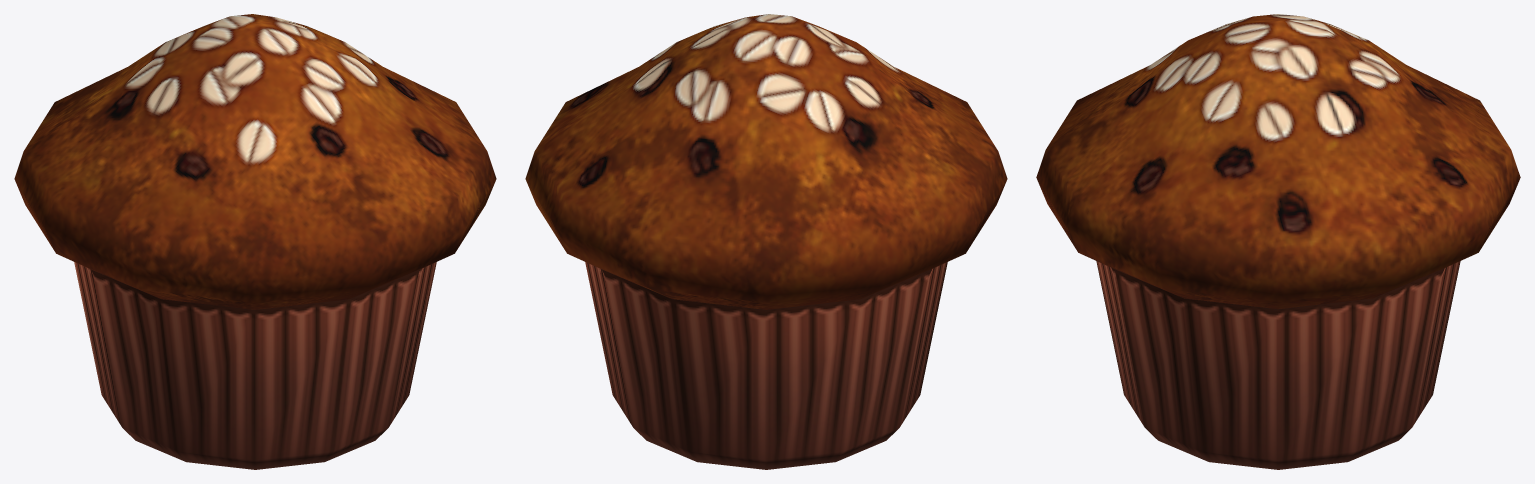
The model's file is 010-Muffins_006.FBX.
3 views of the same model, side by side, from view 1: azimuth 30°, elevation 25°; view 2: azimuth 150°, elevation 25°; view 3: azimuth 270°, elevation 25° (orthographic).
Visible parts, largest first — view 1: 010-Muffins_006; view 2: 010-Muffins_006; view 3: 010-Muffins_006.
Boxes of the visible parts, x1,y1,x2,y2 form: 010-Muffins_006: (14,14,496,469); 010-Muffins_006: (525,14,1007,469); 010-Muffins_006: (1036,14,1520,469).
Size of the model in its own units: 19.43 by 17.2 by 19.43.
